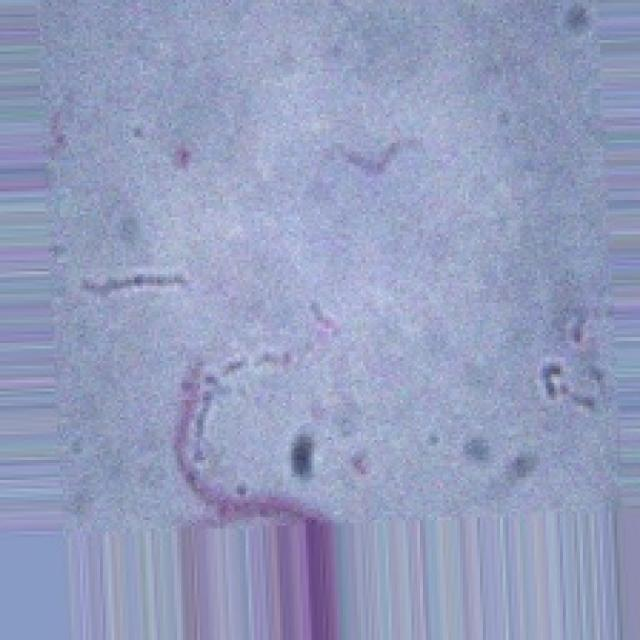Spiral_bacteria: (34, 0, 628, 534)
